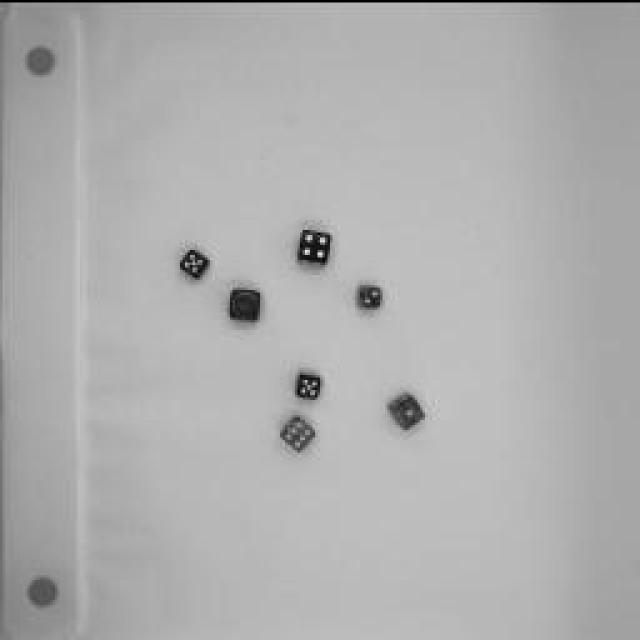dice_1: (385, 385, 430, 430), (224, 280, 266, 325)
dice_2: (352, 278, 388, 312)
dice_4: (292, 224, 338, 266)
dice_5: (290, 364, 328, 401), (178, 240, 212, 280)
dice_6: (275, 408, 320, 458)
